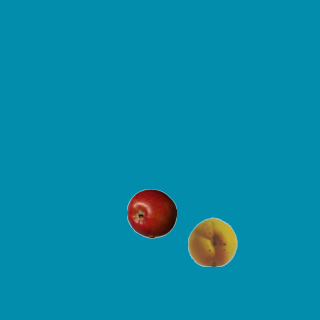Apple Braeburn: (126, 188, 176, 238)
Peach 2: (187, 216, 237, 266)
